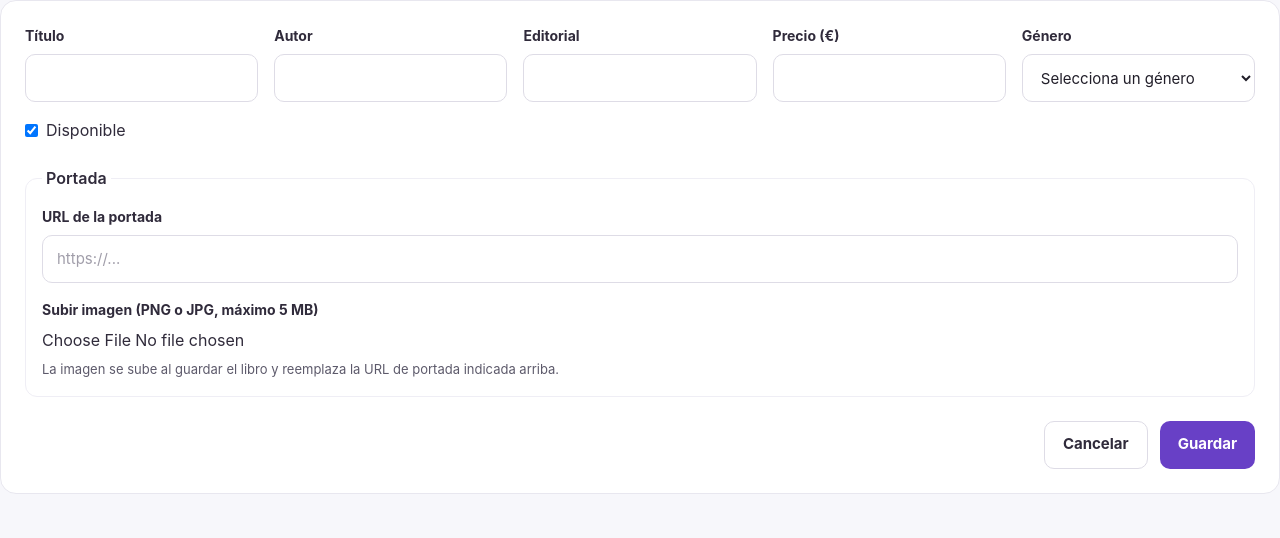
Test: BookForm › create mode › rejects a price of 0
Type "0" into the number field labelled "Precio (€)" at (889, 78), box [773,54,1006,102]
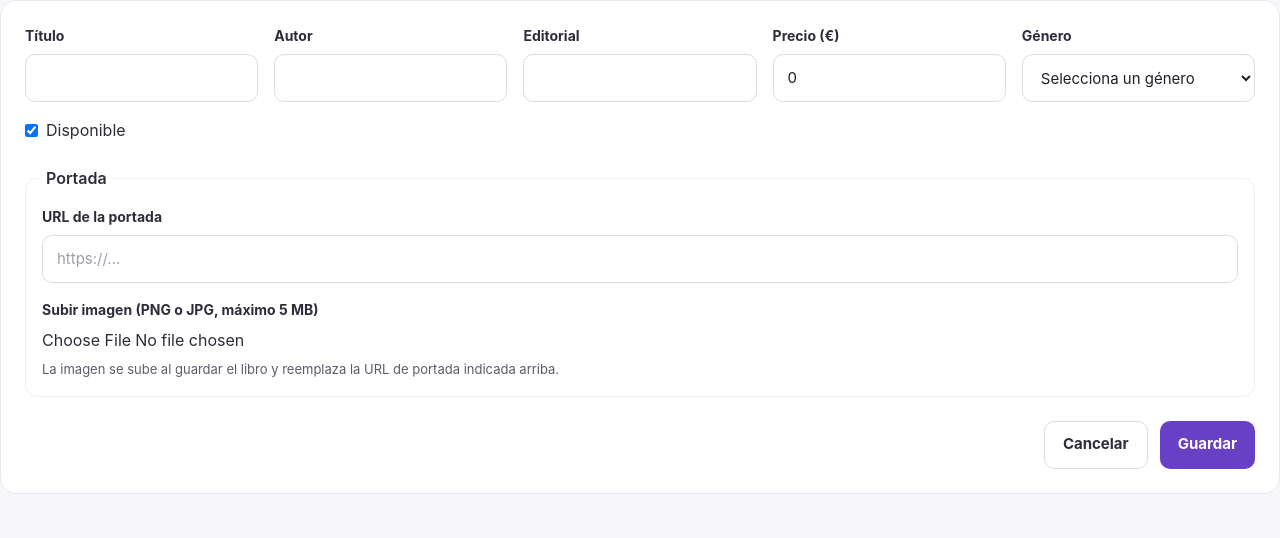
Leave the number field labelled "Precio (€)", box [773,54,1006,102]
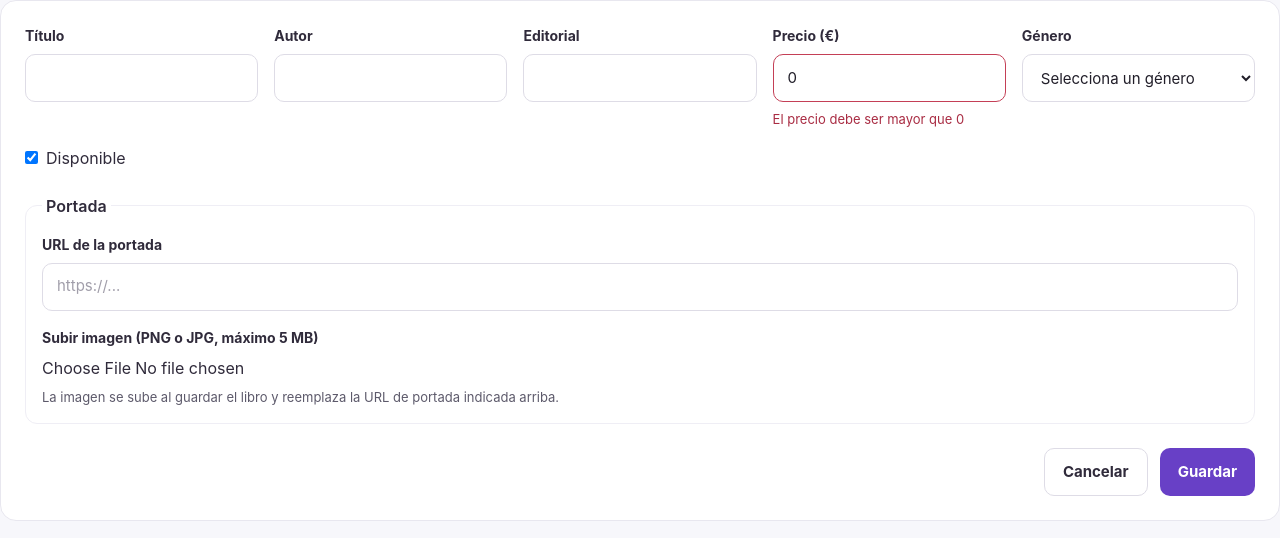
Now the text "El precio debe ser mayor que 0" is shown, box [773,111,964,127]
